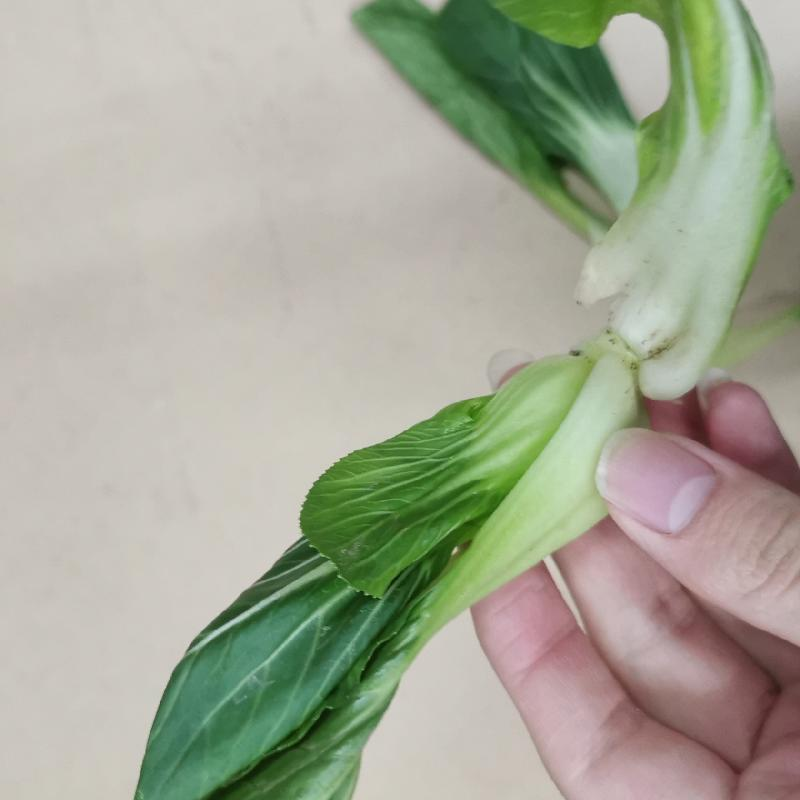green vegatable: (132, 344, 650, 800)
